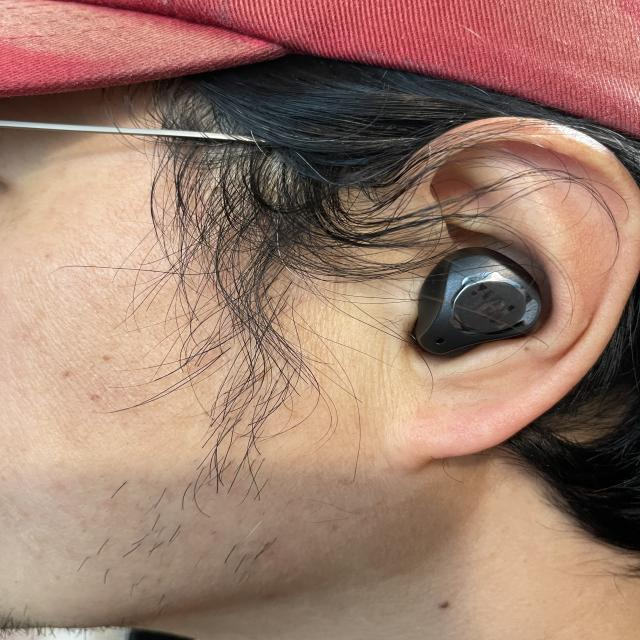earphone: (383, 214, 588, 378)
